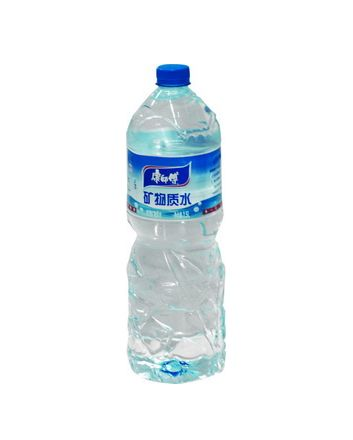amwater: (105, 39, 251, 396)
